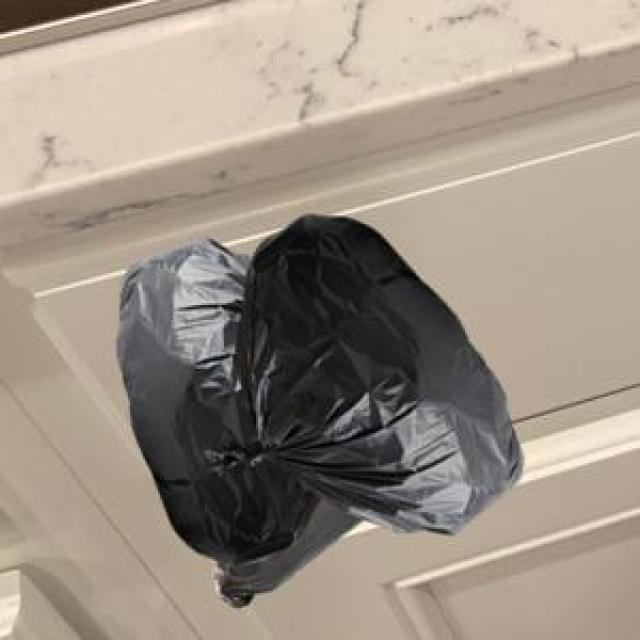waste: (116, 215, 520, 606)
